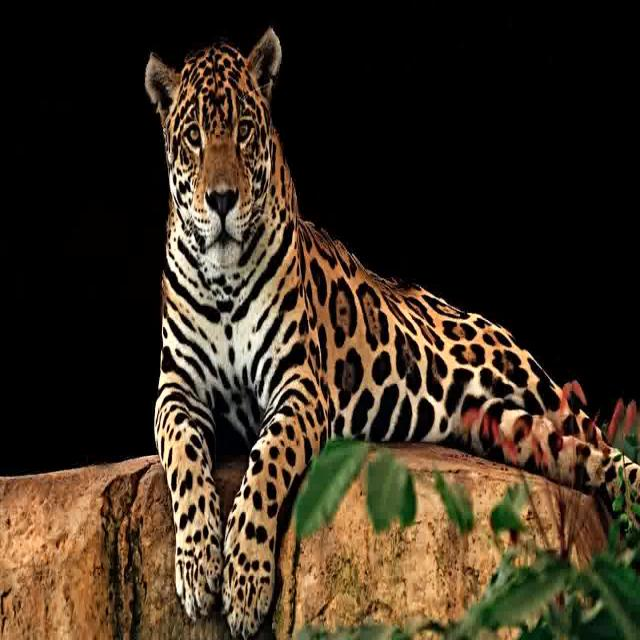Jaguar: (127, 26, 640, 640)
